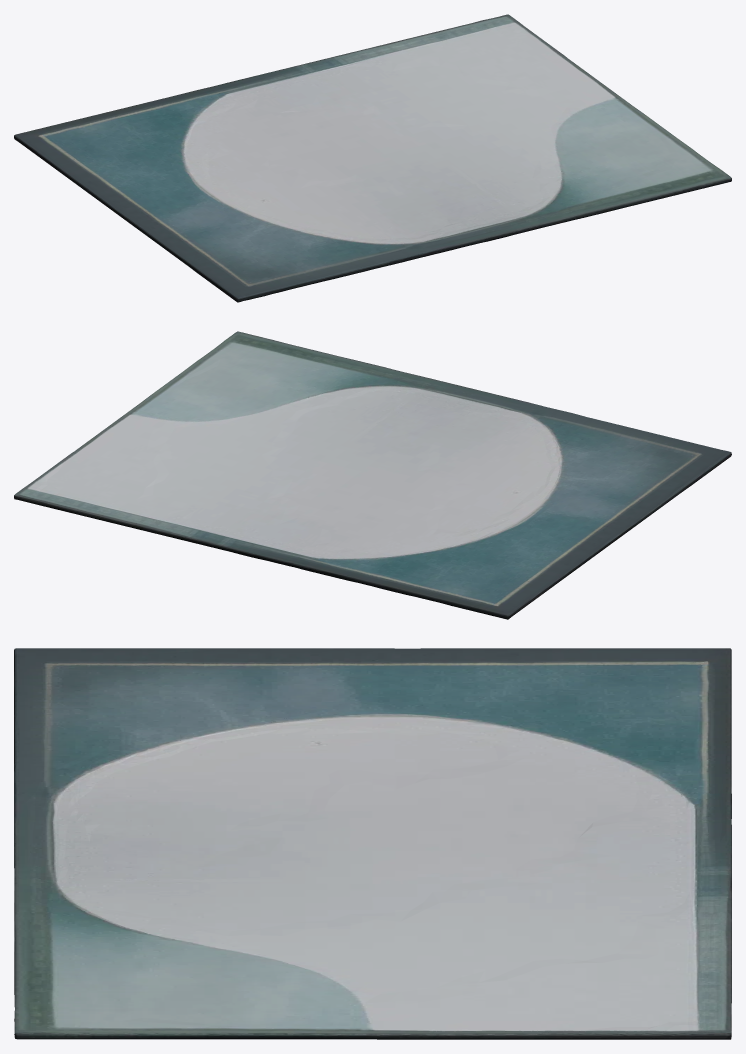
The model's file is 3d54bd55-ef2b-4b38-9808-a71b44abc200.glb.
3 views of the same model, one above another, from view 1: azimuth 30°, elevation 25°; view 2: azimuth 150°, elevation 25°; view 3: azimuth 270°, elevation 25° (orthographic). The views are drawn at different scales.
Visible parts, largest first — view 1: world; view 2: world; view 3: world.
Part boxes in pixels (x1=…): world: x1=14, y1=14, x2=731, y2=302; world: x1=14, y1=331, x2=731, y2=619; world: x1=14, y1=648, x2=731, y2=1039.
Bounding box in the file's own units: 1 × 0.00929 × 0.7859.
1 material, 1 textured.
